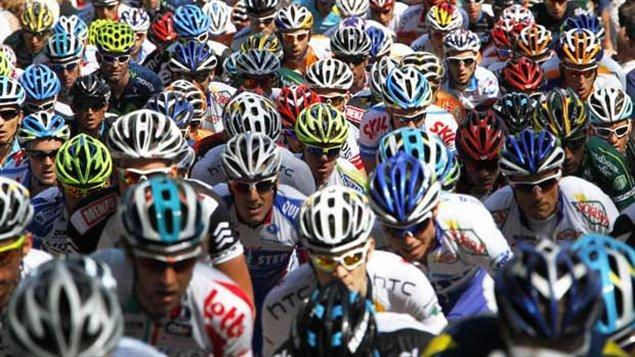helmet: (119, 176, 204, 312), (298, 185, 376, 295), (366, 150, 441, 261), (497, 128, 565, 220), (219, 131, 281, 224), (295, 102, 347, 181), (455, 108, 505, 190), (17, 110, 70, 184), (555, 27, 604, 101), (95, 20, 135, 82), (68, 74, 111, 129), (441, 28, 481, 83), (274, 4, 313, 60)
